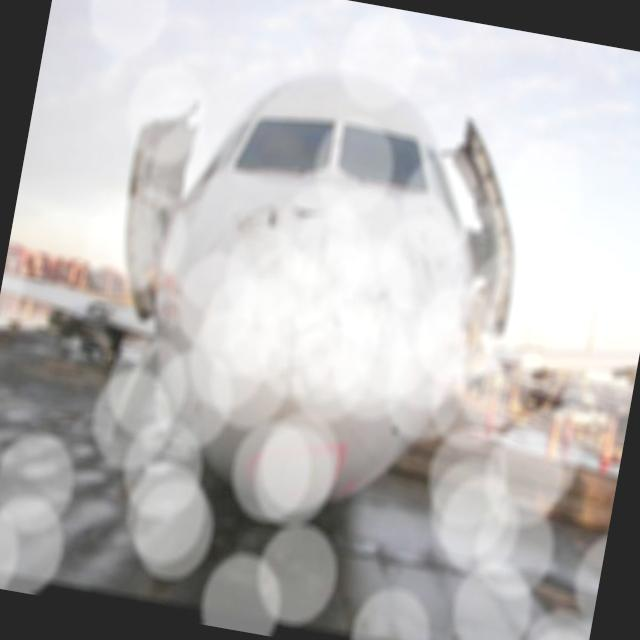crack: (222, 195, 320, 245)
